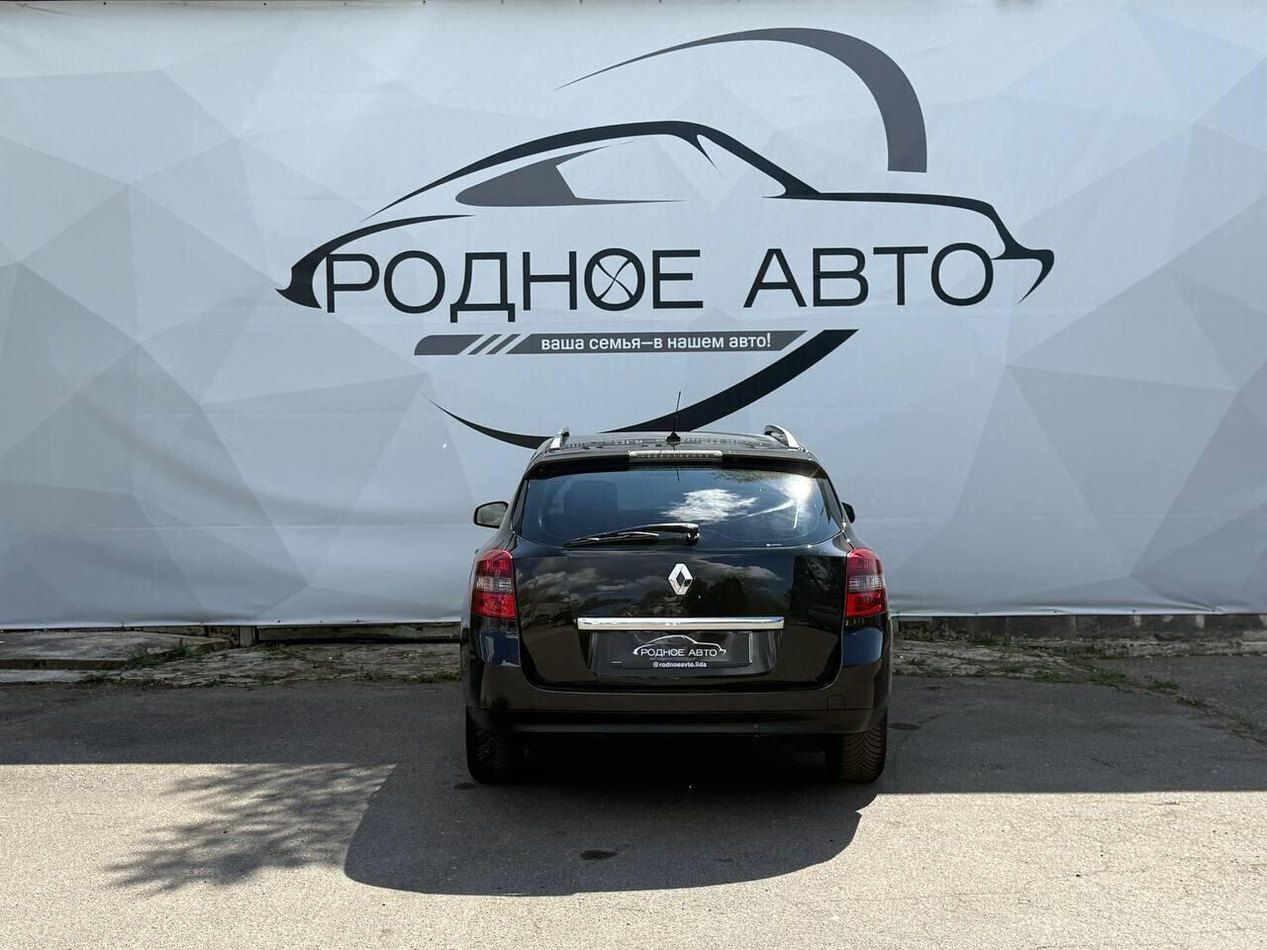Laguna_2010-2015: (455, 426, 906, 804)
